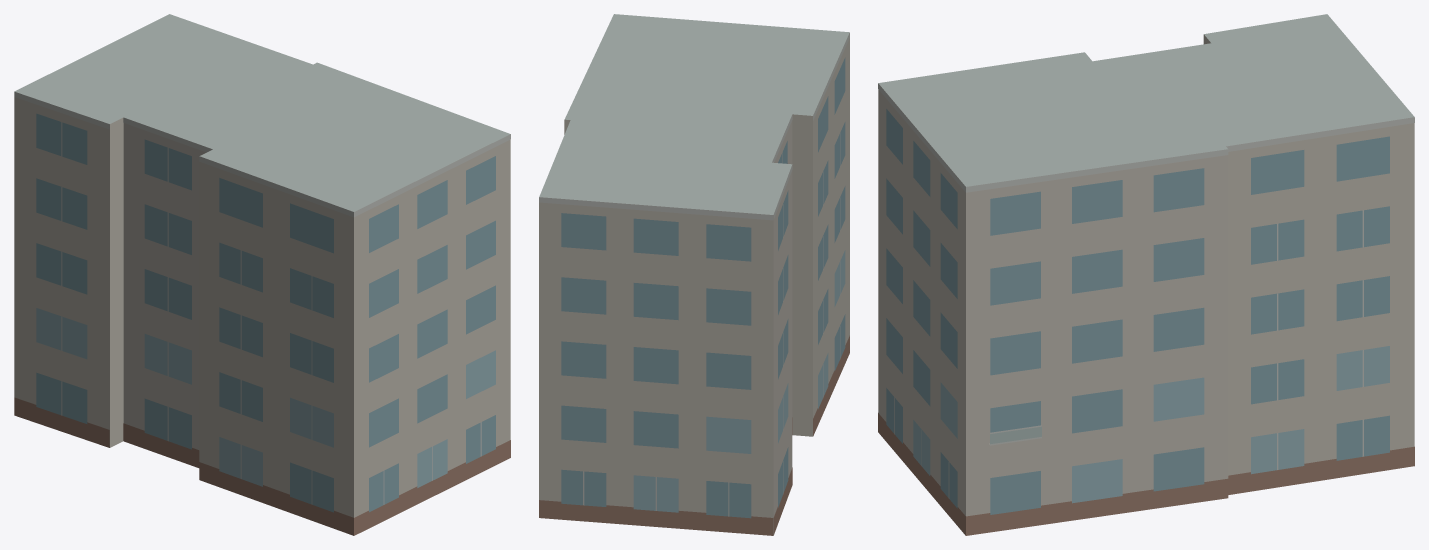
The model's file is survey-upis-32593573.glb.
The picture shows the model from 3 angles, left to right: view 1: azimuth 30°, elevation 25°; view 2: azimuth 150°, elevation 25°; view 3: azimuth 270°, elevation 25°; orthographic projection. The views are drawn at different scales.
Visible parts, largest first — view 1: survey-upis-32593573.tmp; view 2: survey-upis-32593573.tmp; view 3: survey-upis-32593573.tmp.
Part boxes in pixels (box(x1,y1,x2,y2)): survey-upis-32593573.tmp: box(14, 14, 510, 535); survey-upis-32593573.tmp: box(539, 14, 849, 535); survey-upis-32593573.tmp: box(878, 14, 1414, 535).
Size of the model in its own units: 15.52 by 14.6 by 20.36.
